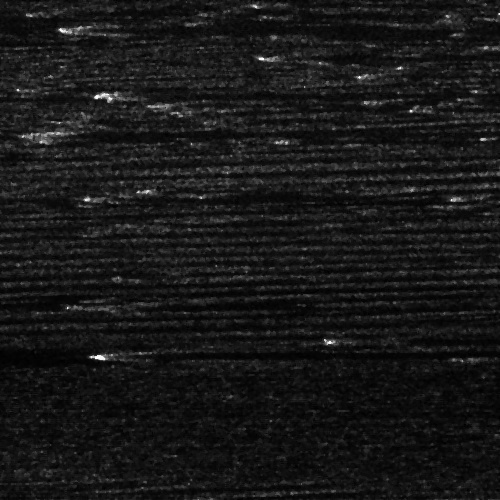object: (2, 120, 137, 143), (61, 344, 176, 357), (315, 333, 420, 342), (55, 300, 160, 307), (429, 198, 500, 207), (71, 194, 144, 199), (445, 356, 500, 361)
shadow: (70, 120, 473, 143), (119, 344, 500, 357), (107, 300, 452, 307), (108, 194, 350, 199), (368, 333, 500, 342), (0, 297, 65, 310), (471, 198, 500, 207), (487, 356, 500, 361)
